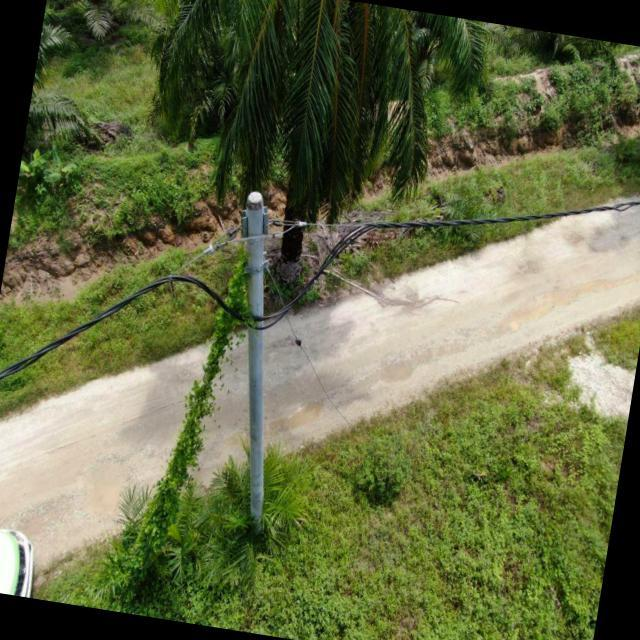critical vegetation: (97, 220, 262, 610)
